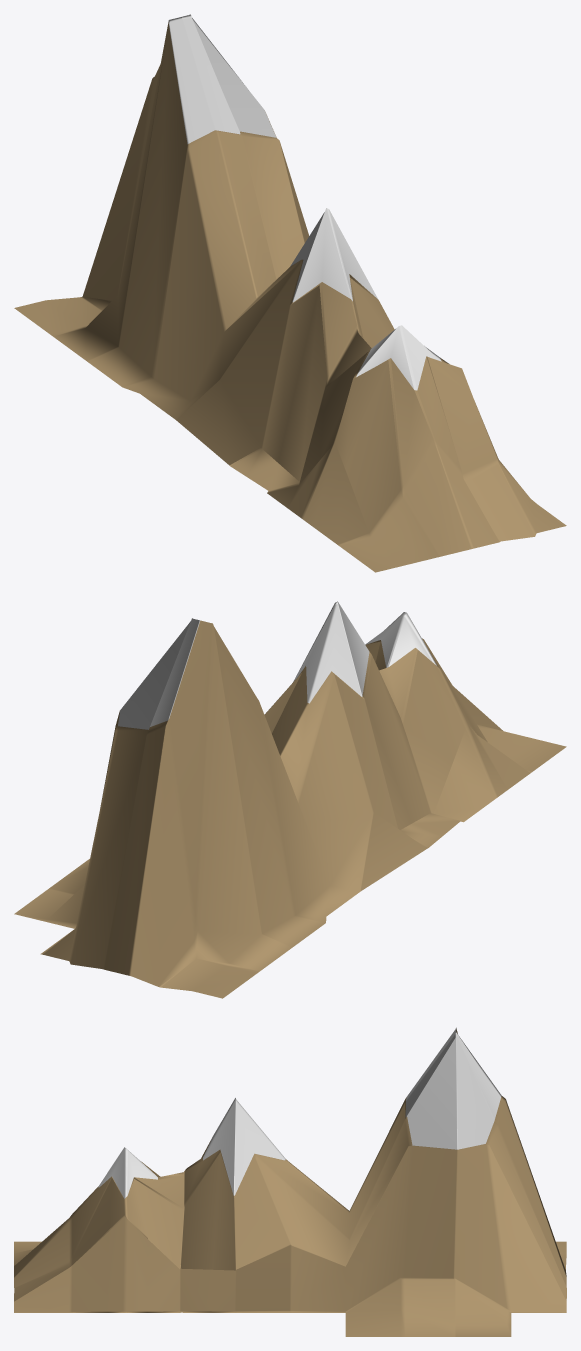
The model's file is Mountain3.fbx.
3 views of the same model, one above another, from view 1: azimuth 30°, elevation 25°; view 2: azimuth 150°, elevation 25°; view 3: azimuth 270°, elevation 25° (orthographic). The views are drawn at different scales.
Visible parts, largest first — view 1: pPlane1; view 2: pPlane1; view 3: pPlane1.
Boxes of the visible parts, <box> form: pPlane1: <box>14,14,566,572</box>; pPlane1: <box>14,601,566,998</box>; pPlane1: <box>14,1027,566,1336</box>.
Size of the model in its own units: 153 by 187 by 376.
